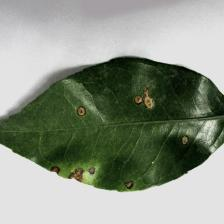canker: (28, 84, 188, 195)
